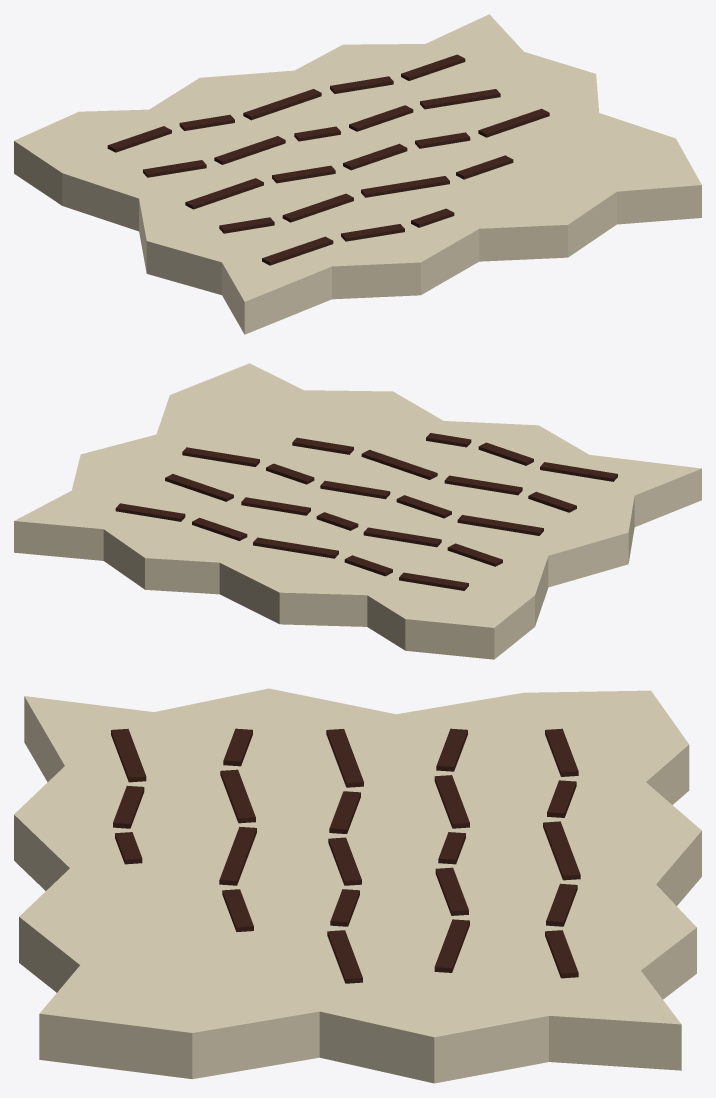
File: prop-item-clovervale-message.glb
3 renders of one model, top to bottom at view 1: azimuth 30°, elevation 25°; view 2: azimuth 150°, elevation 25°; view 3: azimuth 270°, elevation 25°, orthographic. The views are drawn at different scales.
Visible parts, largest first — view 1: ItemClovervaleMessage; view 2: ItemClovervaleMessage; view 3: ItemClovervaleMessage.
Boxes of the visible parts, bbox=[...] form: ItemClovervaleMessage: bbox=[14, 14, 701, 334]; ItemClovervaleMessage: bbox=[14, 363, 701, 659]; ItemClovervaleMessage: bbox=[14, 688, 701, 1083].
Bounding box in the file's own units: 0.324 × 0.022 × 0.27.
